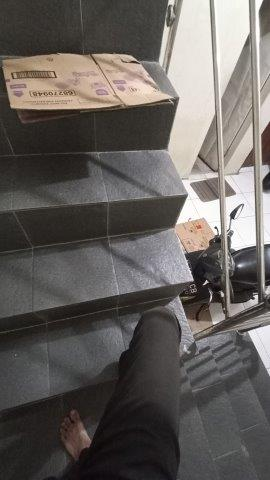kardus: (3, 55, 174, 121)
